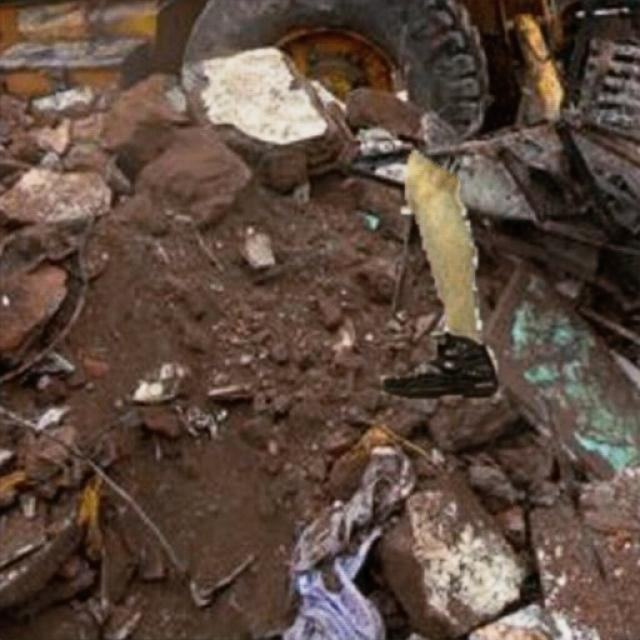Person in Rubble: (382, 148, 496, 398)
